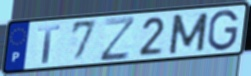2: (139, 15, 167, 57)
7: (69, 19, 100, 64)
G: (206, 9, 240, 53)
M: (167, 11, 211, 56)
T: (37, 23, 62, 65)
Z: (98, 14, 138, 63)
